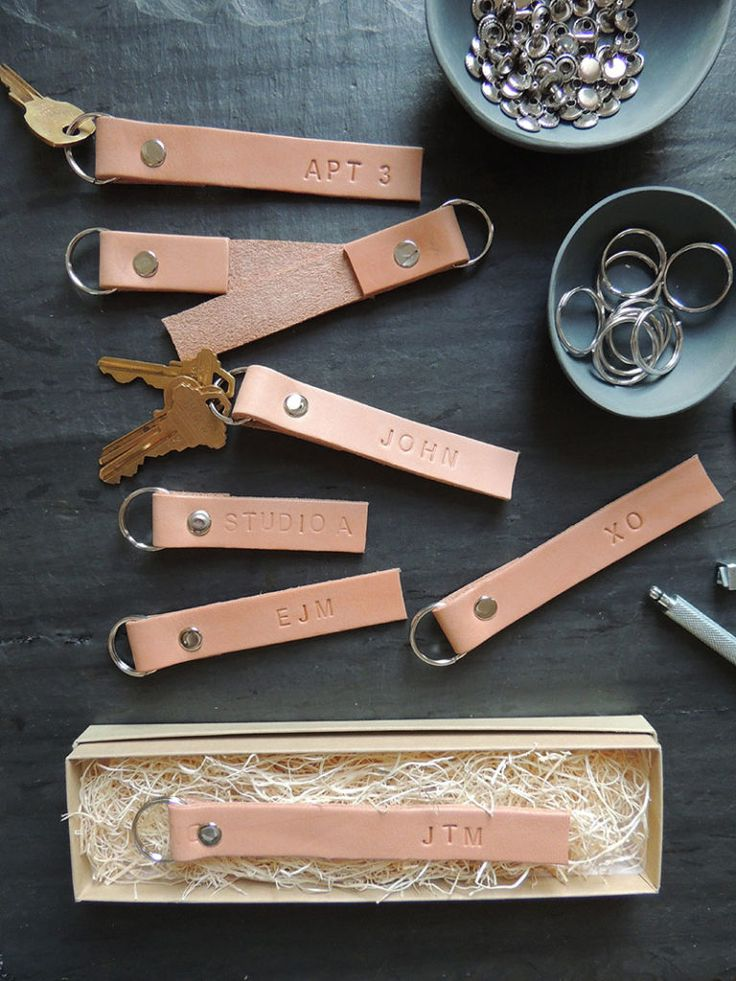cuero: (89, 112, 723, 865)
